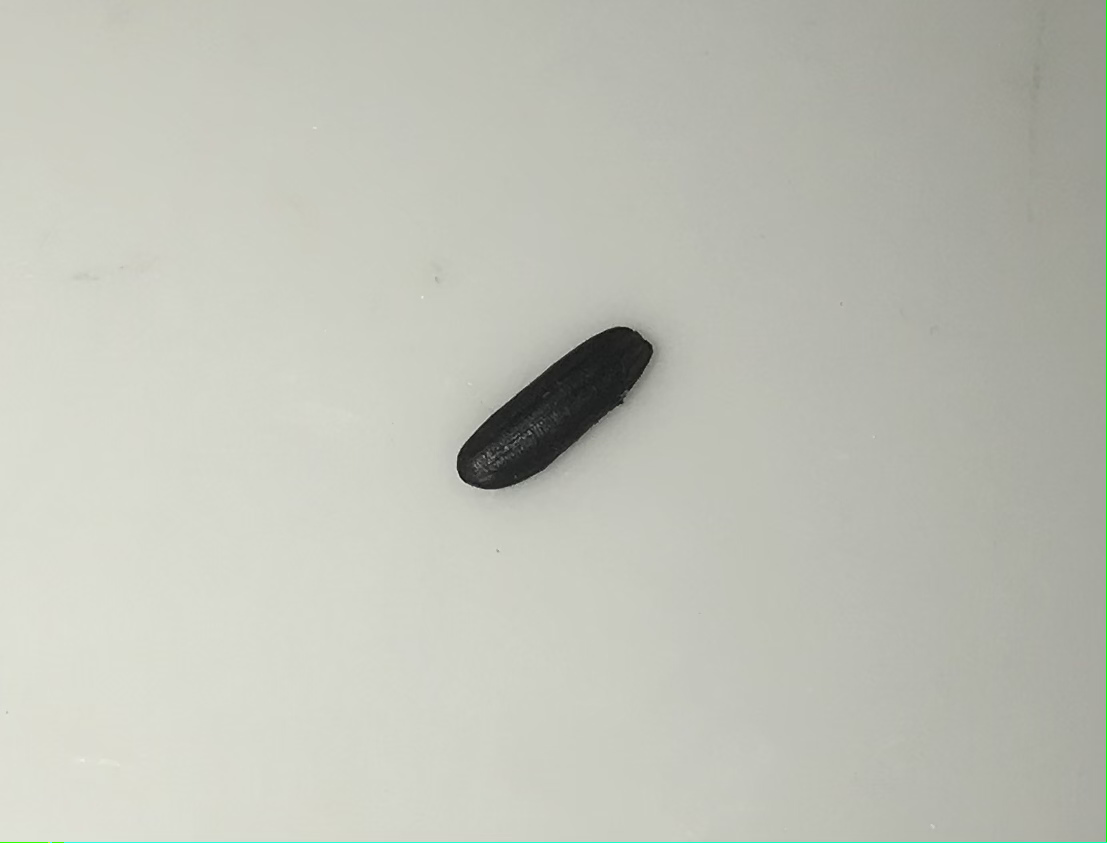Gao Nep Cam: (451, 311, 654, 509)
